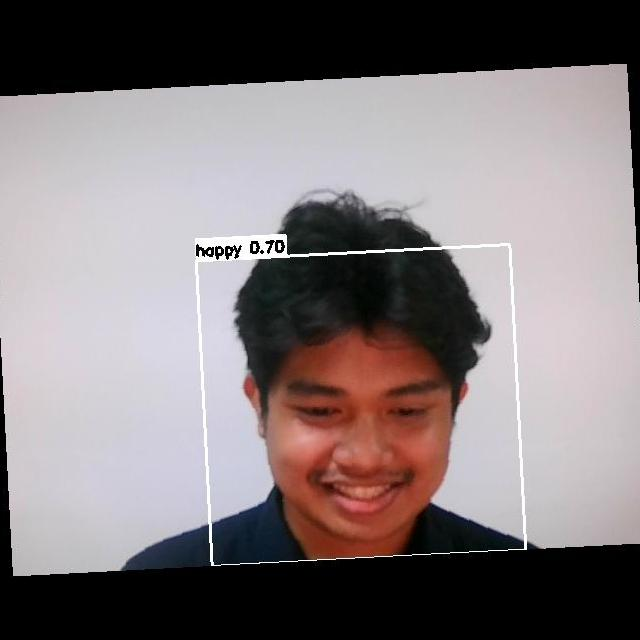Happy: (259, 351, 459, 515)
